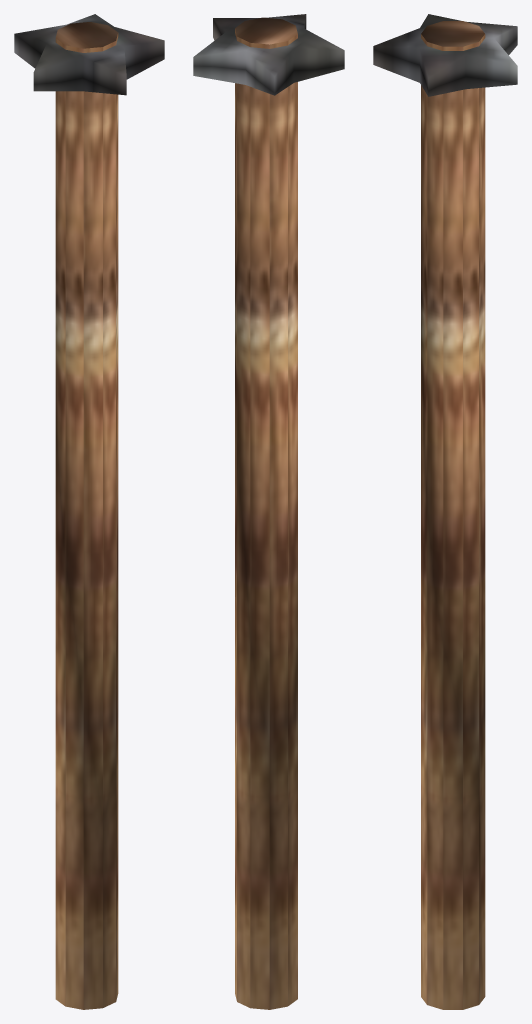
The model's file is inca_mace_2.dae.
The picture shows the model from 3 angles, left to right: view 1: azimuth 30°, elevation 25°; view 2: azimuth 150°, elevation 25°; view 3: azimuth 270°, elevation 25°; orthographic projection.
Visible parts, largest first — view 1: club_estrela_2; view 2: club_estrela_2; view 3: club_estrela_2.
Part boxes in pixels (bbox=[...]): club_estrela_2: bbox=[14, 14, 164, 1009]; club_estrela_2: bbox=[193, 14, 344, 1009]; club_estrela_2: bbox=[373, 14, 517, 1009].
Bounding box in the file's own units: 0.2654 × 0.2524 × 1.86.
